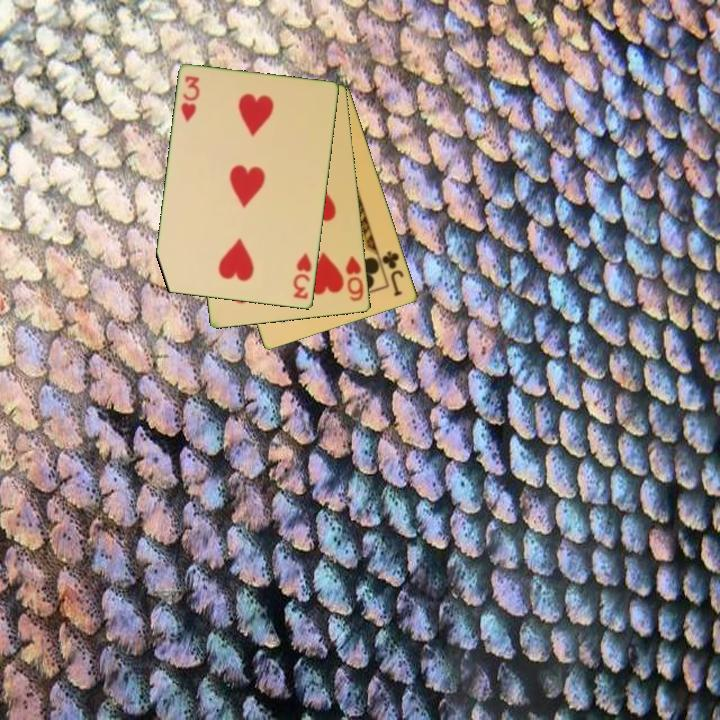3h: (290, 250, 315, 302), (178, 73, 203, 125)
6h: (342, 253, 367, 304)
Jc: (379, 247, 407, 299)
